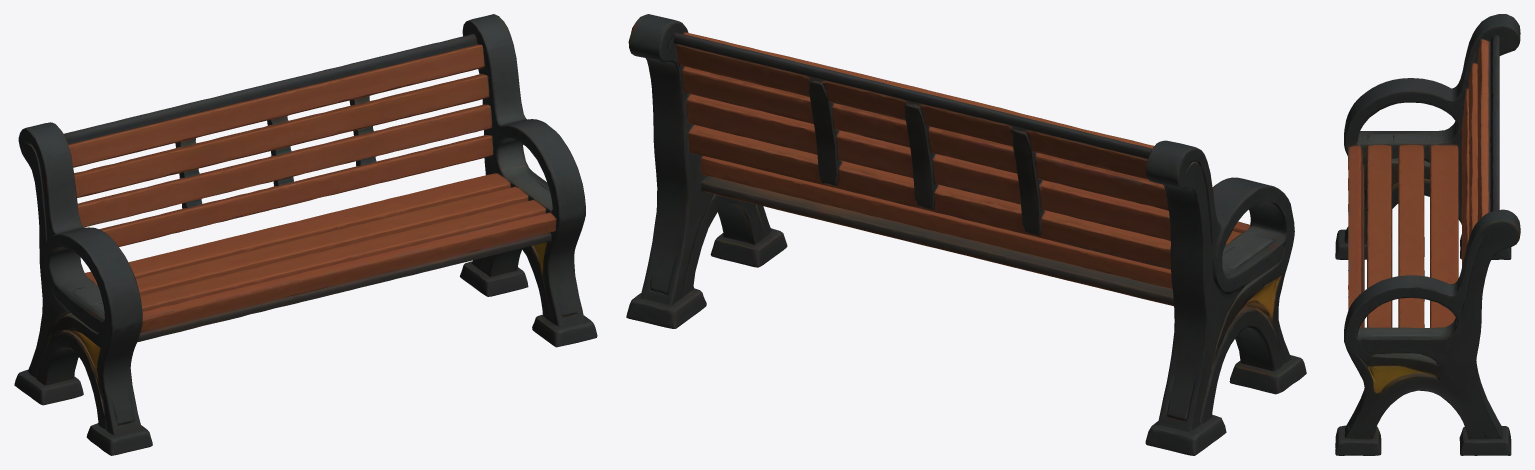
Rendered from illuminated-bench-v180.glb.
3 renders of one model, left to right at view 1: azimuth 30°, elevation 25°; view 2: azimuth 150°, elevation 25°; view 3: azimuth 270°, elevation 25°, orthographic. The views are drawn at different scales.
Parts seen in each view (by area): view 1: Mesh; view 2: Mesh; view 3: Mesh.
Part boxes in pixels (x1=…): Mesh: x1=14, y1=14, x2=597, y2=455; Mesh: x1=626, y1=14, x2=1306, y2=455; Mesh: x1=1335, y1=14, x2=1520, y2=455.
Bounding box in the file's own units: 2.2 × 1.11 × 0.8009.
Materials: 1 (1 with a texture image).
